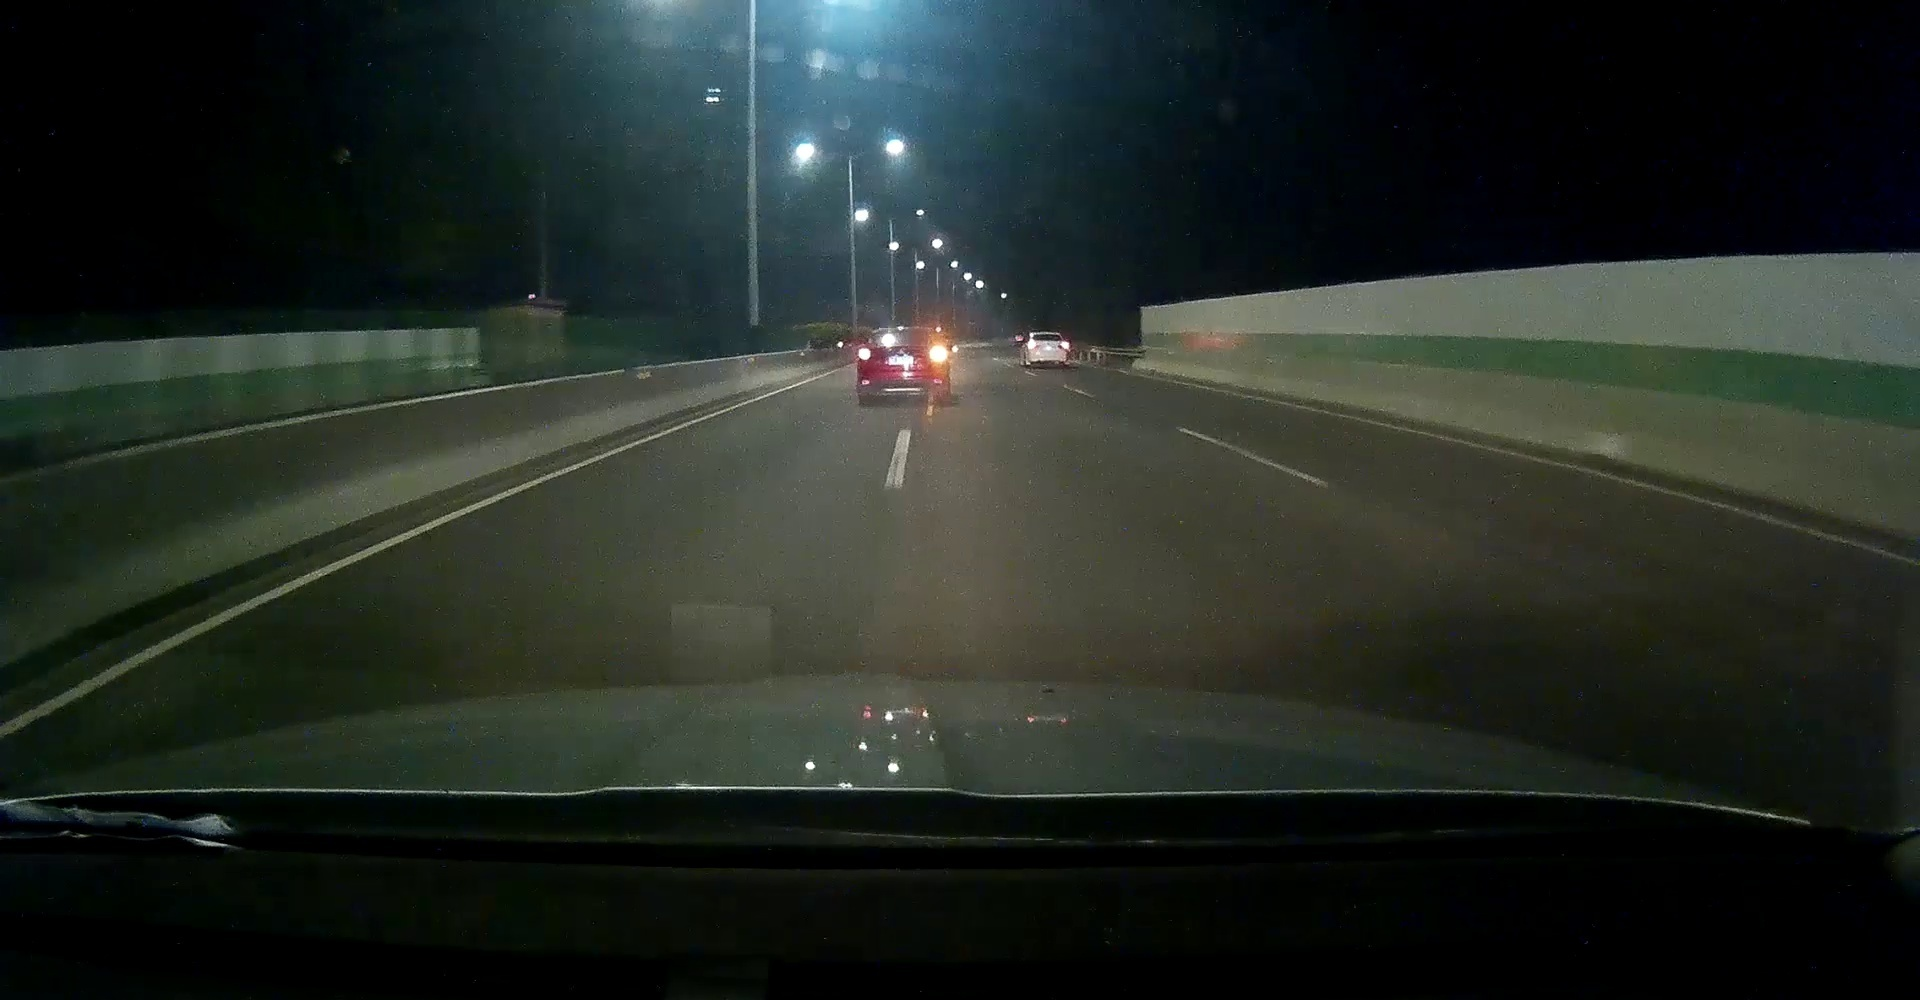L_light: (858, 348, 871, 360), (1029, 341, 1036, 350)
R_light: (930, 346, 949, 362), (1060, 341, 1069, 350)
T_light: (897, 332, 908, 334), (1043, 334, 1050, 335)
night-no: (1029, 332, 1069, 369)
night-right: (856, 327, 949, 406)
